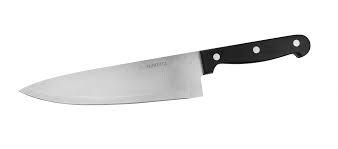Knife: (18, 33, 310, 105)
